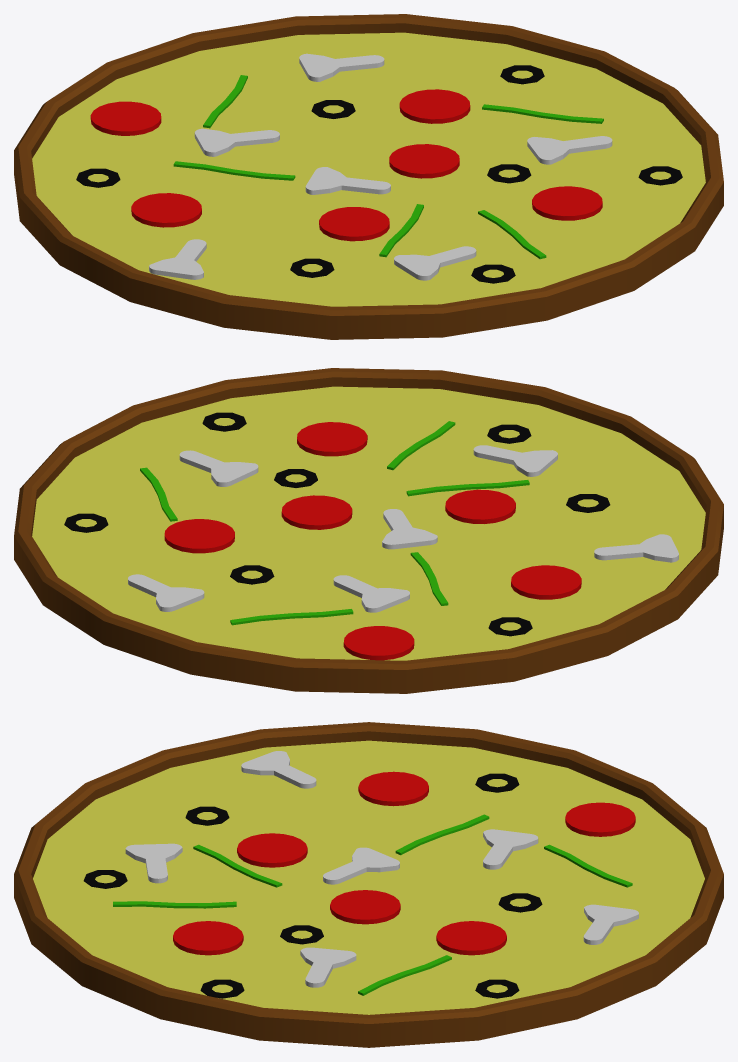
The model's file is pizza.fbx.
3 renders of one model, top to bottom at view 1: azimuth 30°, elevation 25°; view 2: azimuth 150°, elevation 25°; view 3: azimuth 270°, elevation 25°, orthographic.
Visible parts, largest first — view 1: pizza; view 2: pizza; view 3: pizza.
Boxes of the visible parts, x1,y1,x2,y2 form: pizza: (14,14,723,339); pizza: (14,368,723,693); pizza: (14,722,723,1047).
Size of the model in its own units: 96.45 by 4.13 by 96.45.
